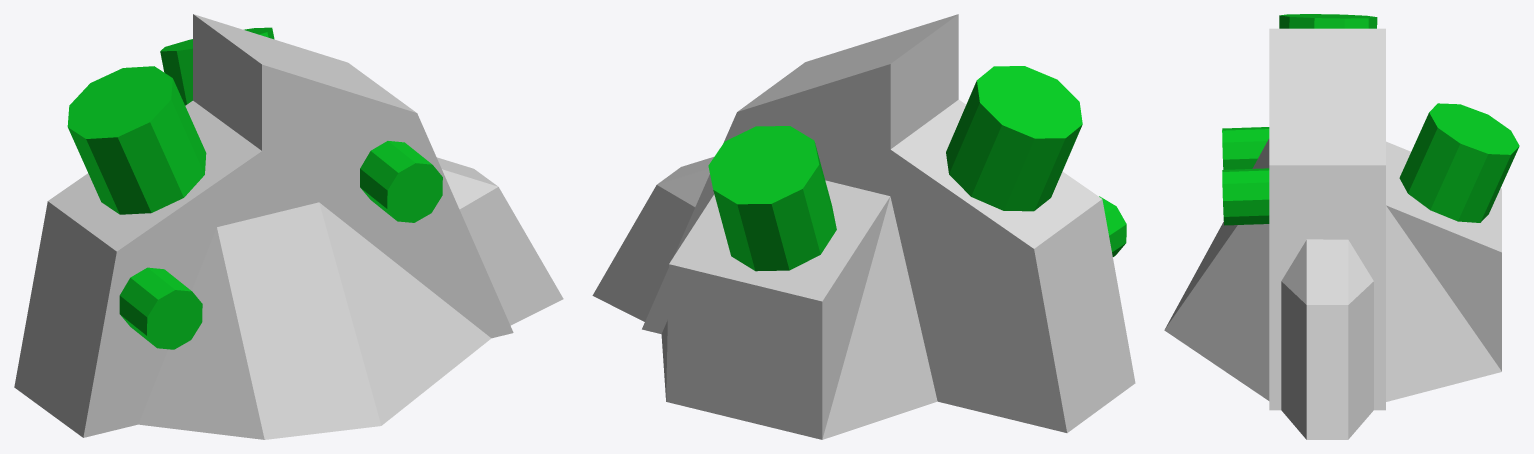
The model's file is Esmeralda_Tipo2.fbx.
3 renders of one model, left to right at view 1: azimuth 30°, elevation 25°; view 2: azimuth 150°, elevation 25°; view 3: azimuth 270°, elevation 25°, orthographic. The views are drawn at different scales.
Visible parts, largest first — view 1: base.012, esmeralda.004, esmeralda.003, esmeralda.002, esmeralda.001; view 2: base.012, esmeralda.004, esmeralda.001, esmeralda.003; view 3: base.012, esmeralda.001, esmeralda.002, esmeralda.003, esmeralda.004.
Part boxes in pixels (box(x1,y1,x2,y2)): base.012: box(14, 14, 563, 439); esmeralda.004: box(67, 66, 206, 214); esmeralda.003: box(119, 267, 202, 349); esmeralda.002: box(360, 141, 442, 222); esmeralda.001: box(160, 27, 274, 105); base.012: box(592, 14, 1135, 439); esmeralda.004: box(946, 66, 1082, 211); esmeralda.001: box(708, 126, 836, 271); esmeralda.003: box(1099, 196, 1126, 256); base.012: box(1164, 28, 1501, 439); esmeralda.001: box(1399, 103, 1519, 222); esmeralda.002: box(1222, 168, 1269, 225); esmeralda.003: box(1222, 127, 1269, 169); esmeralda.004: box(1279, 14, 1377, 28).
Size of the model in its own units: 140 by 87.89 by 102.
